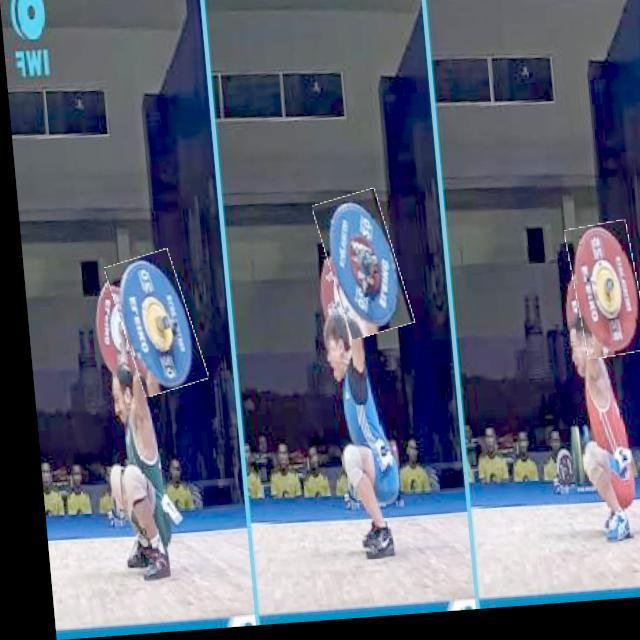barbell: (106, 253, 196, 399), (315, 196, 403, 344), (562, 231, 640, 369)
